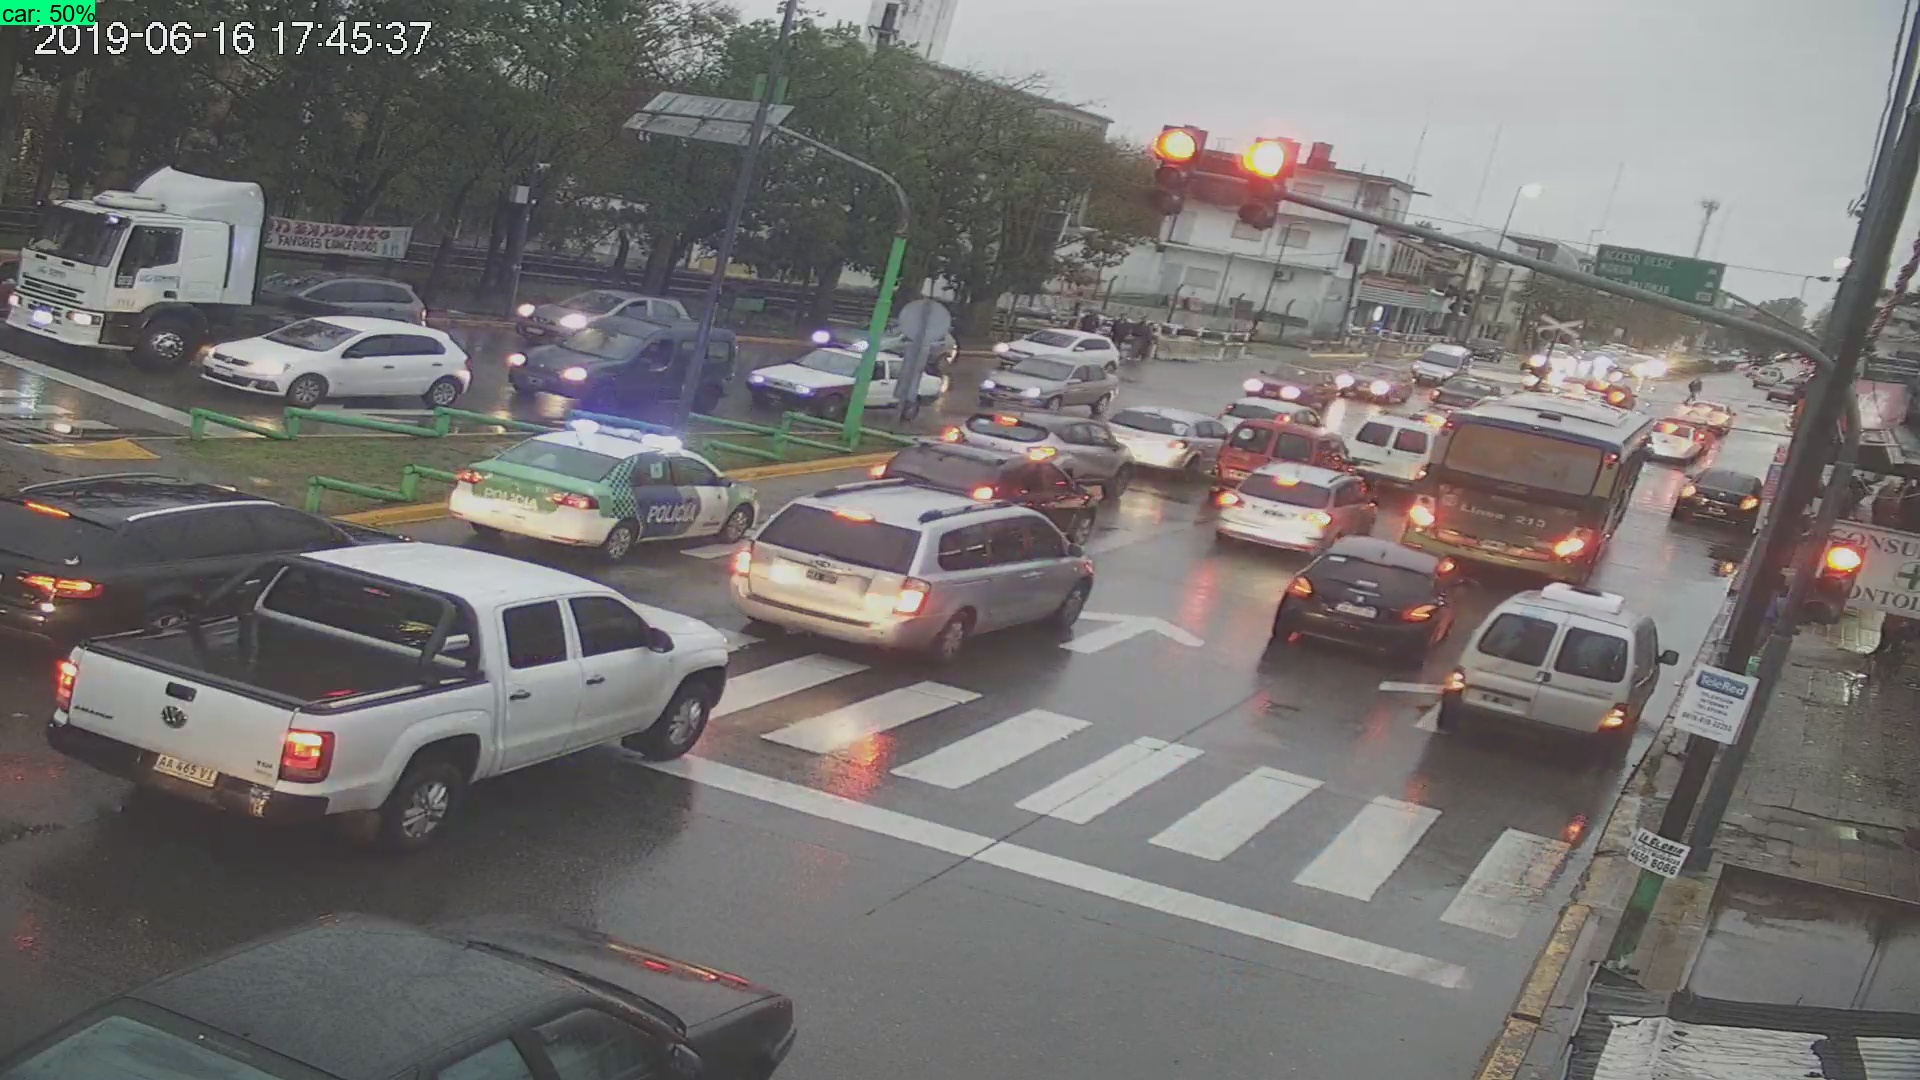bus: (1406, 388, 1652, 582), (1658, 458, 1775, 538)
car: (45, 529, 735, 852), (1, 907, 810, 1080), (729, 479, 1098, 651), (1420, 580, 1677, 756), (190, 301, 469, 423), (493, 311, 742, 423), (1275, 541, 1451, 666), (1197, 447, 1381, 559)
police car: (447, 411, 764, 564)
truck: (11, 166, 257, 378)
